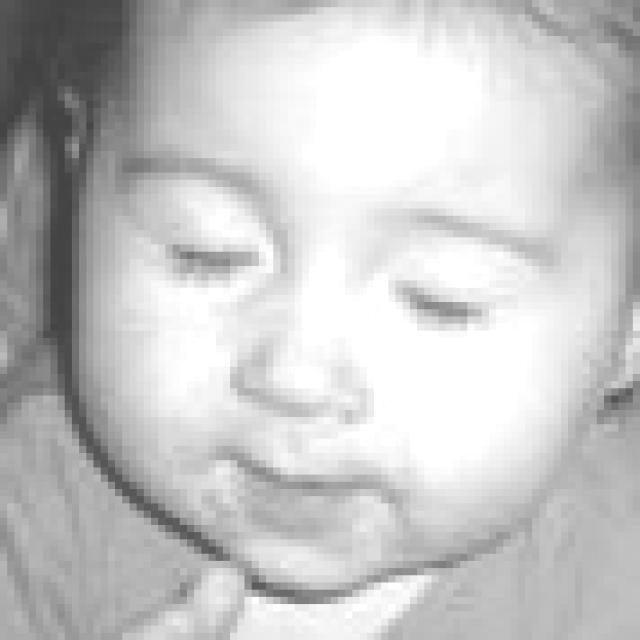real: (79, 0, 637, 594), (147, 208, 501, 348)
